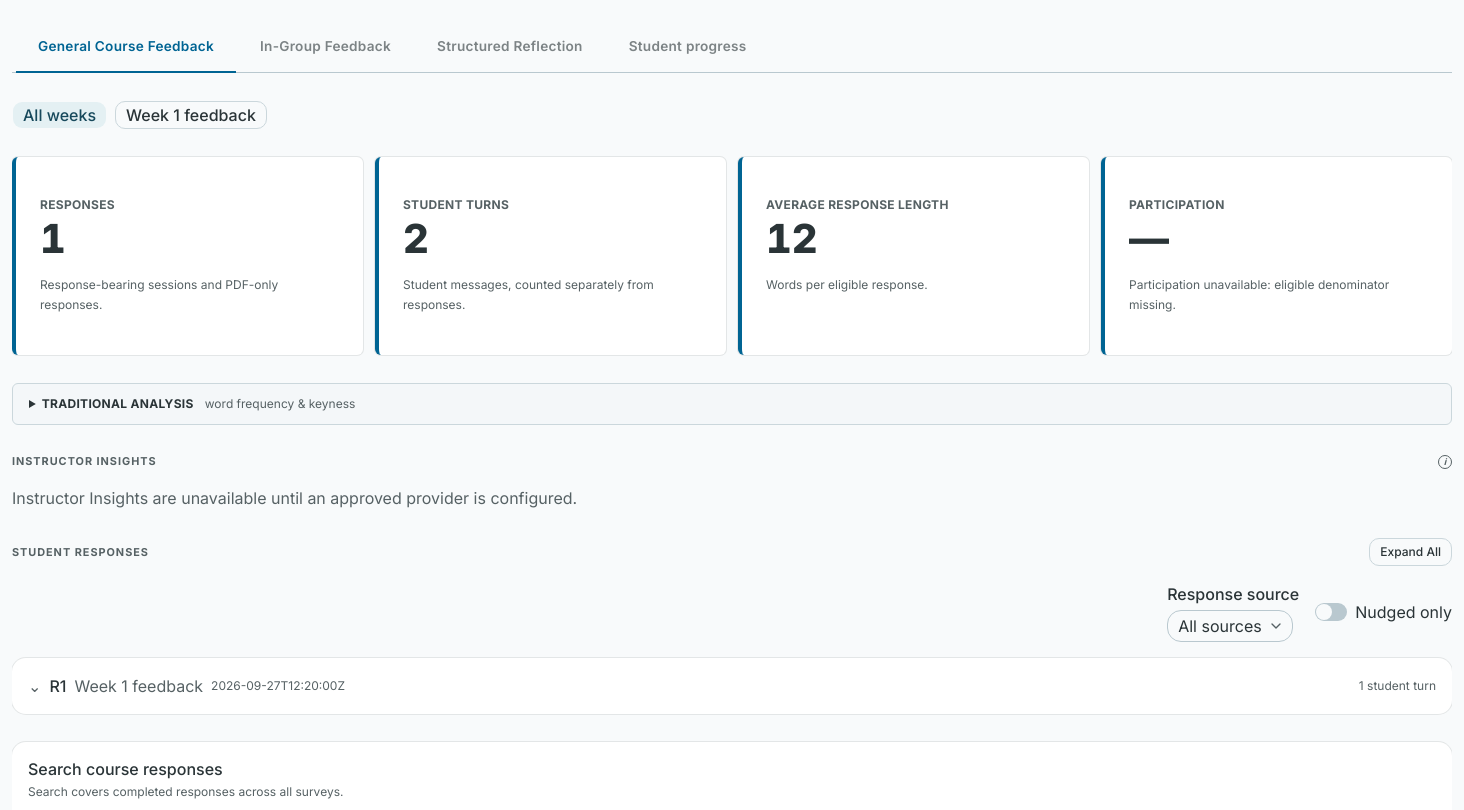
Test case: keeps unlinked team response details visible without placing them under a team
Click the tab "In-Group Feedback" at (326, 46), box [237,23,414,69]
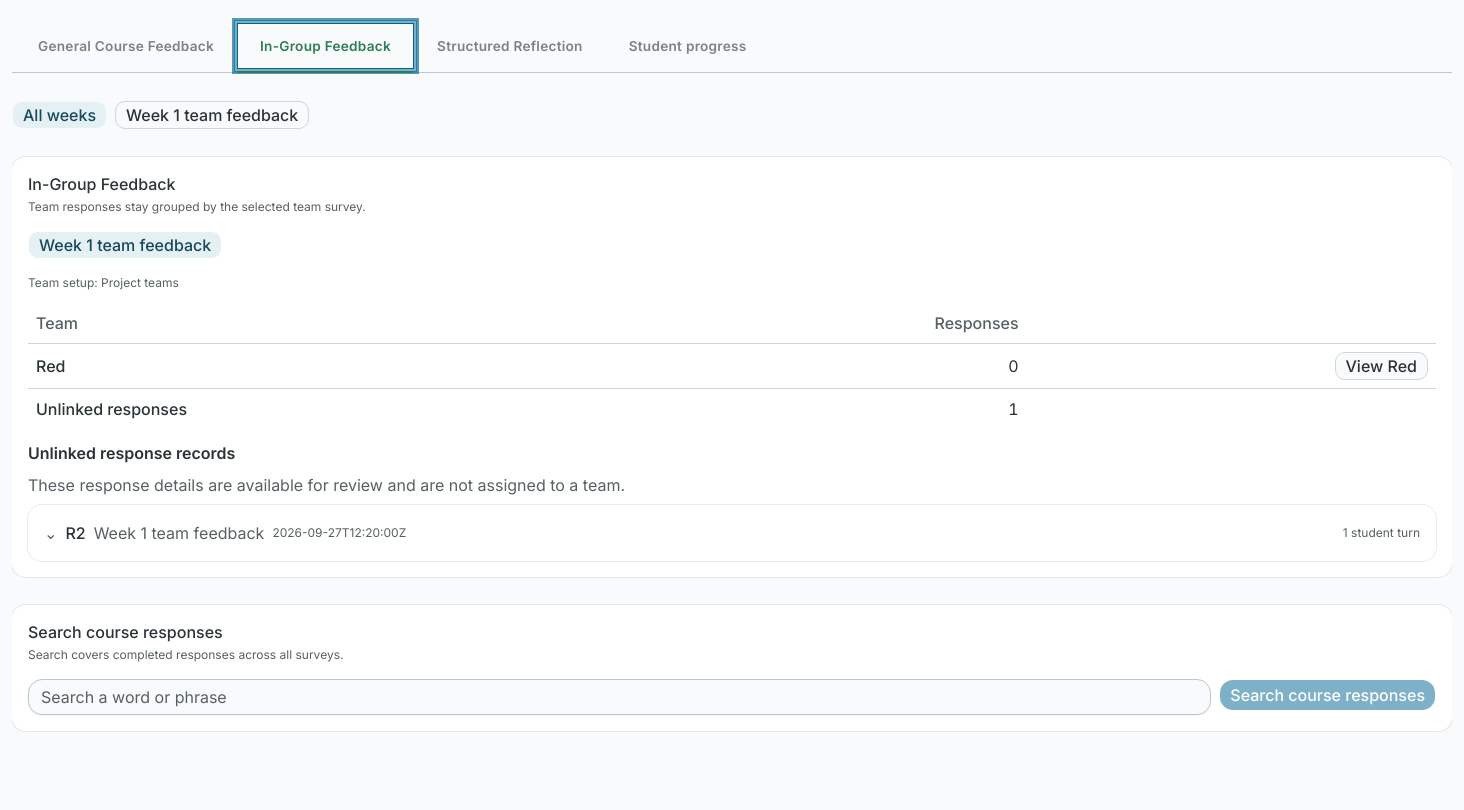
expect the element "Unlinked response records" is shown: met, box [28,441,1436,561]
expect the row "Red 0 View Red" is shown: met, box [28,344,1436,389]
